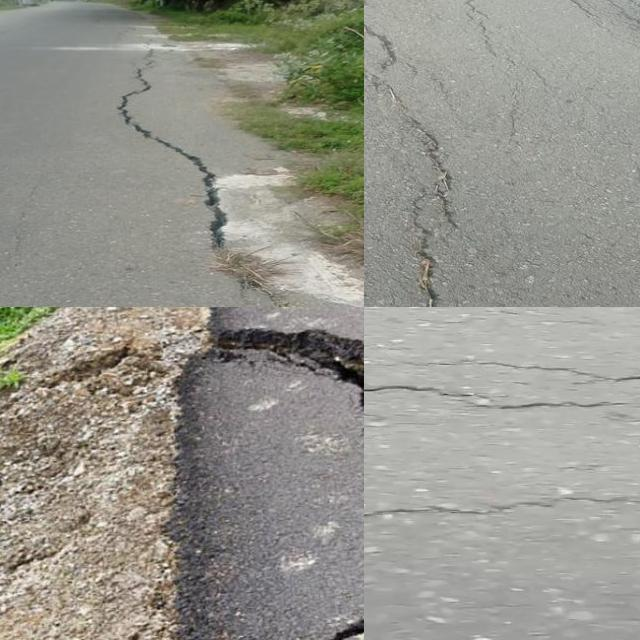Melintang: (364, 481, 640, 536), (364, 380, 631, 429)
Memanjang: (113, 55, 300, 307), (364, 17, 464, 307)
Pinggir: (133, 307, 364, 640)
